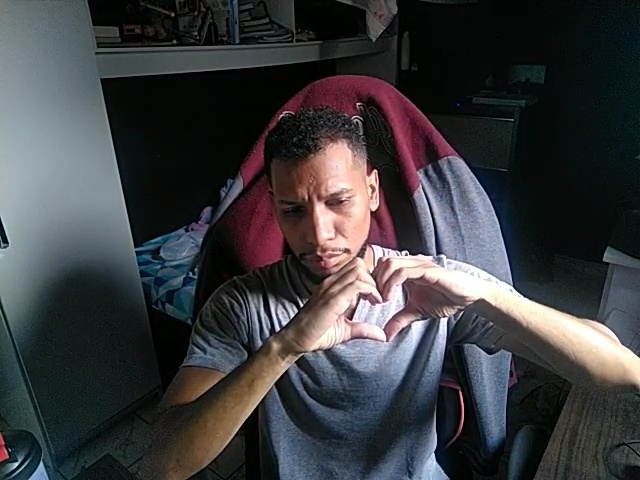eu_te_amo: (305, 245, 457, 347)
